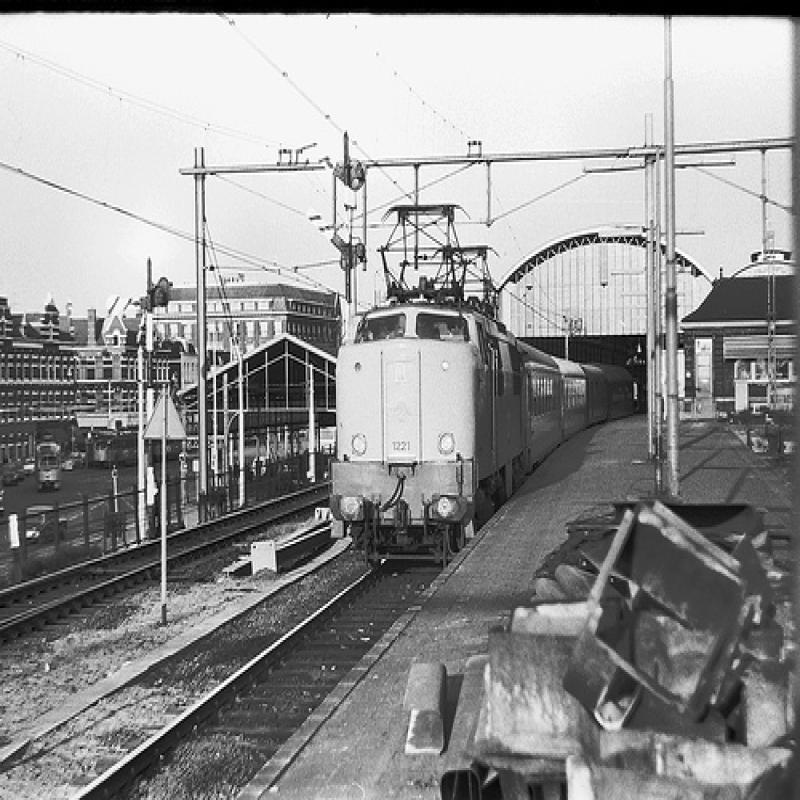train: (331, 204, 641, 564)
